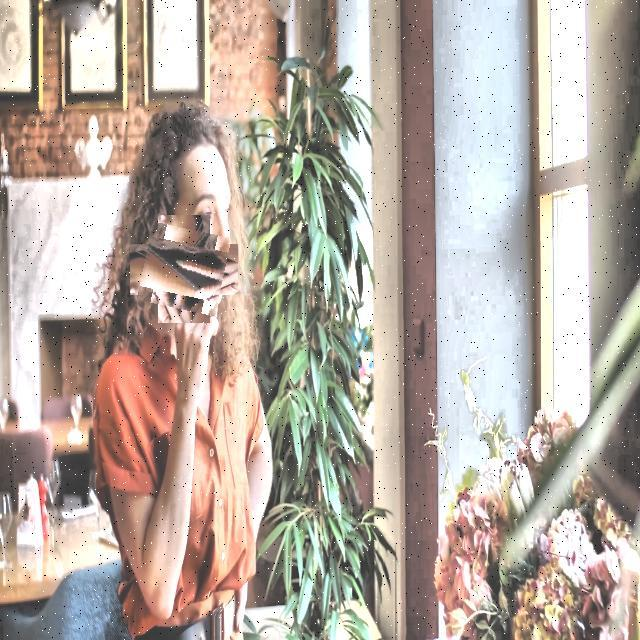Phone: (140, 225, 228, 312)
